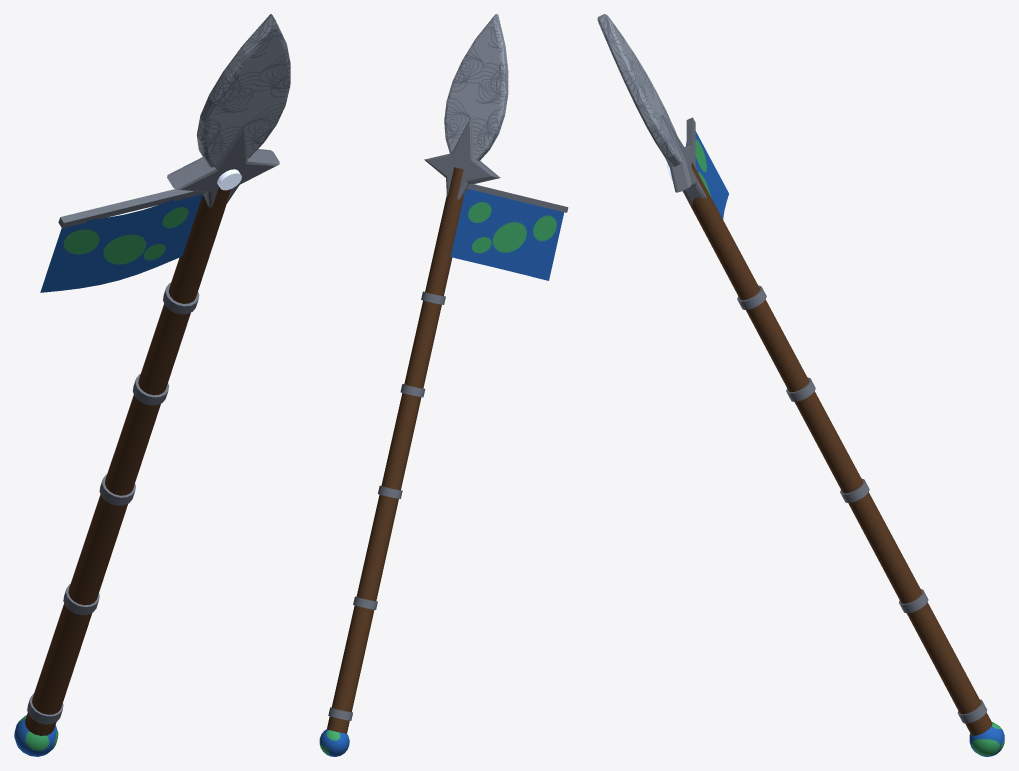
The model's file is hand_eqsa0.glb.
3 views of the same model, side by side, from view 1: azimuth 30°, elevation 25°; view 2: azimuth 150°, elevation 25°; view 3: azimuth 270°, elevation 25° (orthographic). The views are drawn at different scales.
Bounding box in the file's own units: 1.71 × 7.08 × 3.53.
6 materials, 3 textured.
